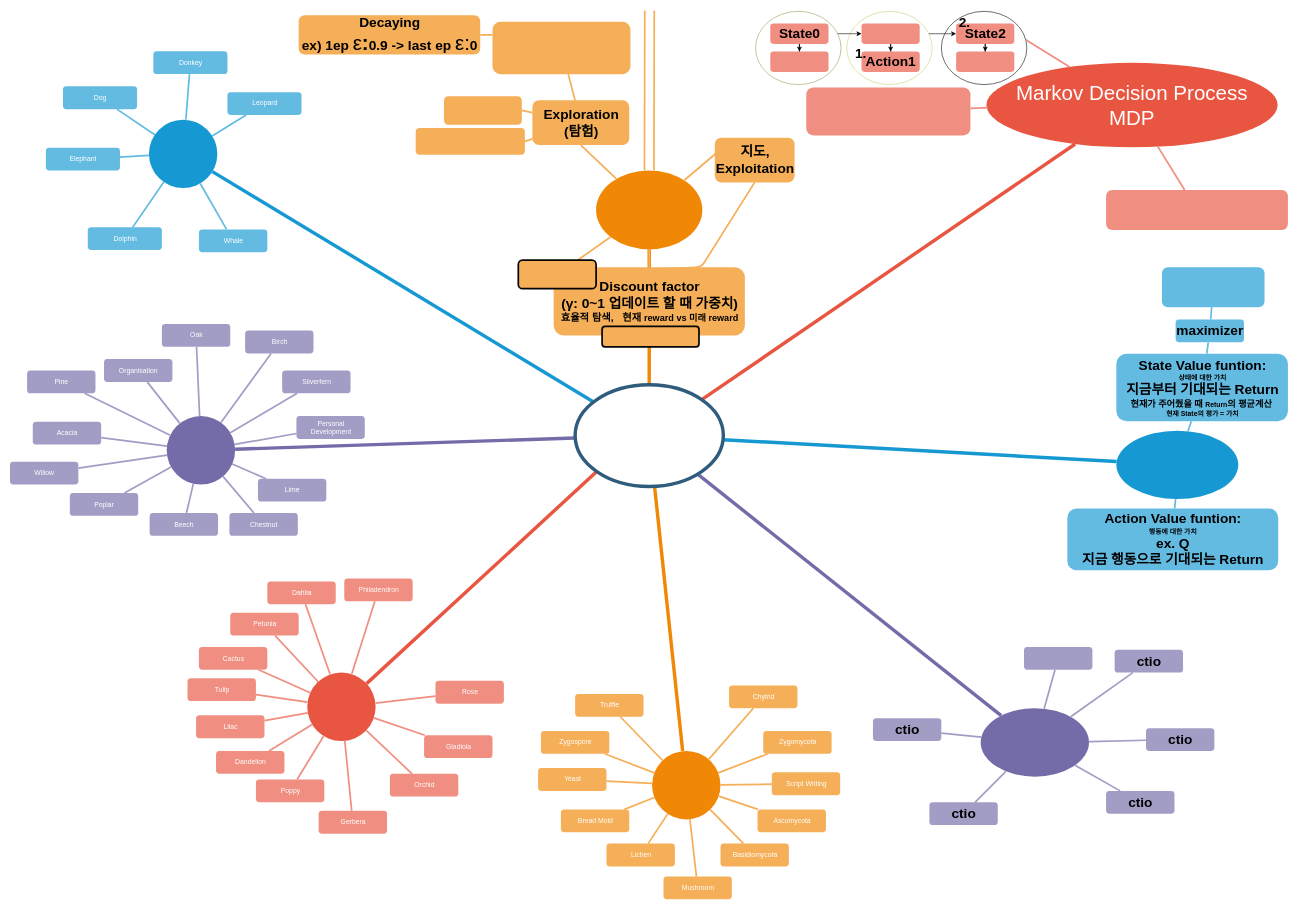
The diagram is 1298 pixels wide and 909 high, and some of its shapes have lost their labels. The centre of each missing label's shape, as x and y in pixels:
Action0: point 799,61
Action2: point 985,61
Bellman equation: point 1034,742
Expected Return: point 1177,464
Flower: point 341,706
Fungi: point 686,785
Goal = Reward (maximize Expected Return): point 1197,210
Mammal: point 183,153
Optimal policy 최적의 정책: point 1213,287
Policy 1. P(a 1 | ̶S̶0̶,̶ ̶a̶0̶,̶ S 1 ) 2. P(S 2 | ̶S̶0̶,̶ ̶a̶0̶,̶ S 1 , a 1 ): point 888,111
Q-learnig: point 649,209
Q-Update: point 650,336
Reward: point 557,274
State1: point 890,33
Tree: point 200,450
ε - Greedy ( ε : 0~1 랜덤 실수 값 ): point 561,48
☆ 새로운 목적지: point 470,141
강화학습: point 649,435
새로운 경로: point 483,110
